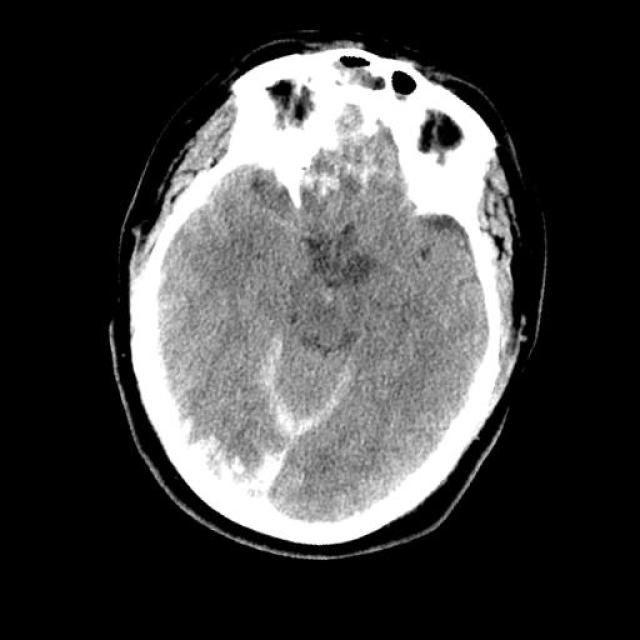Subdural: (206, 318, 404, 543)
